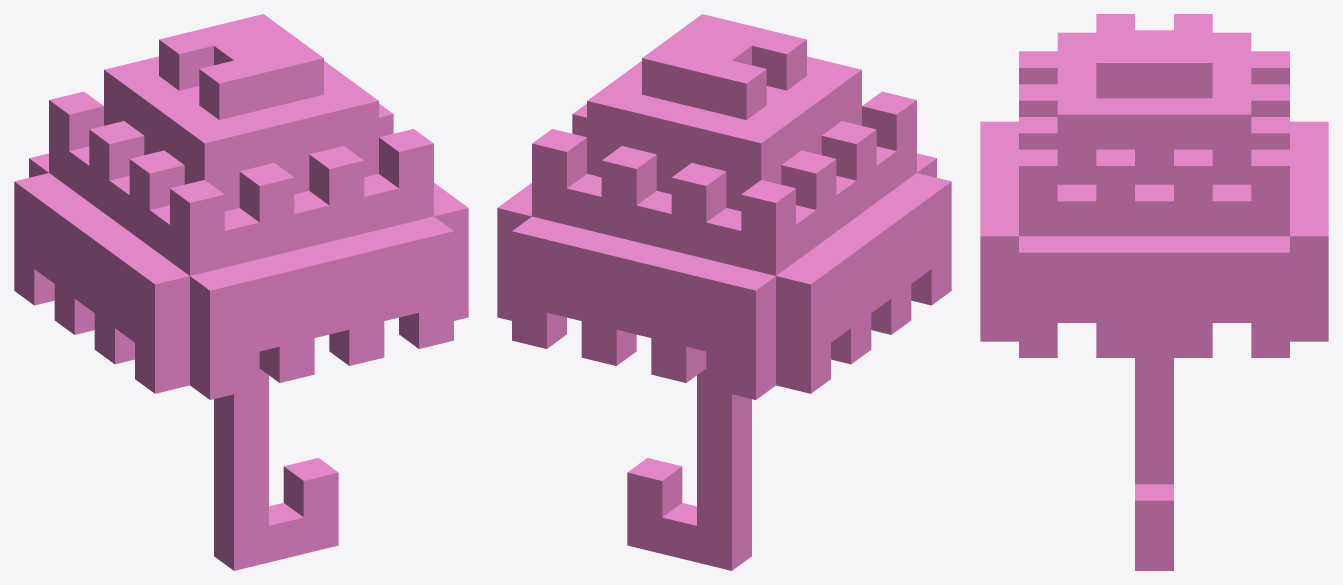
3 renders of one model, left to right at view 1: azimuth 30°, elevation 25°; view 2: azimuth 150°, elevation 25°; view 3: azimuth 270°, elevation 25°, orthographic. The views are drawn at different scales.
Visible parts, largest first — view 1: 99; view 2: 99; view 3: 99.
Boxes of the visible parts, x1,y1,x2,y2 form: 99: (14,14,468,570); 99: (497,14,951,570); 99: (980,14,1328,570).
Size of the model in its own units: 90 by 140 by 90.
Materials: 1 (1 with a texture image).
